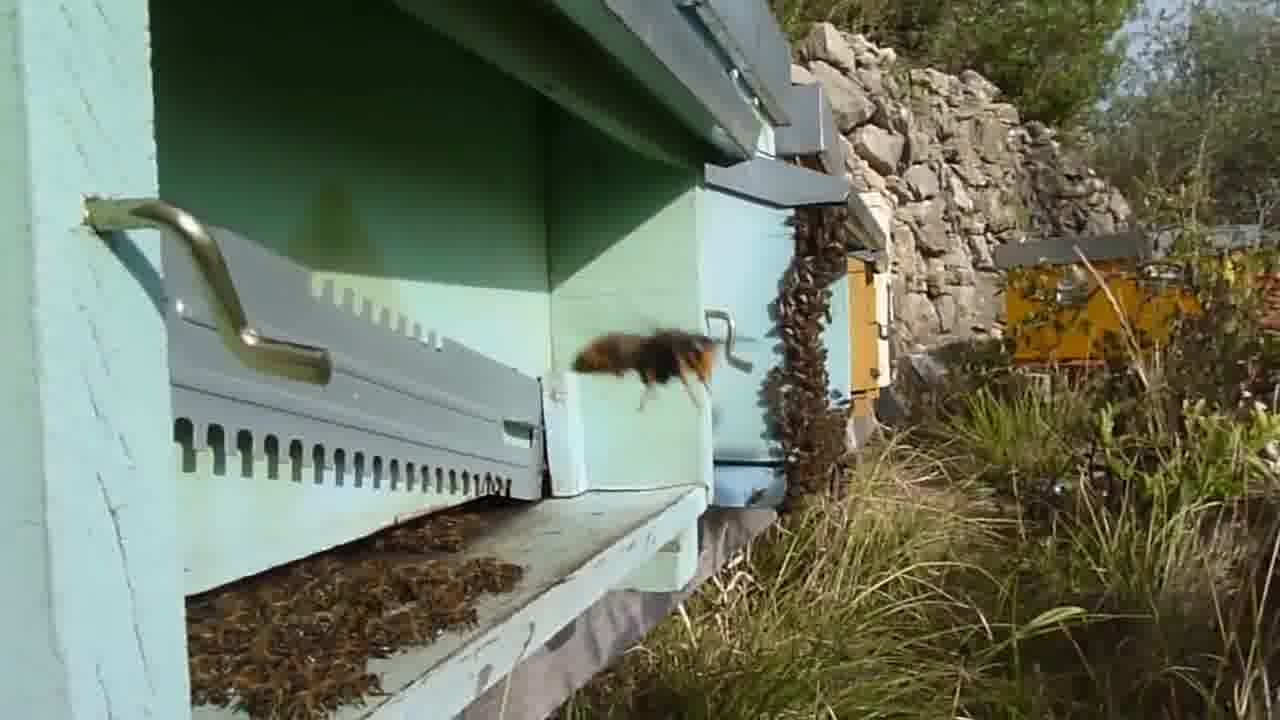bee: (190, 598, 388, 713), (289, 560, 451, 599), (765, 420, 848, 494), (784, 204, 855, 289), (770, 285, 841, 363), (770, 364, 838, 428), (399, 594, 474, 645), (385, 515, 467, 560), (449, 558, 525, 599)
hornet: (576, 318, 719, 400)
